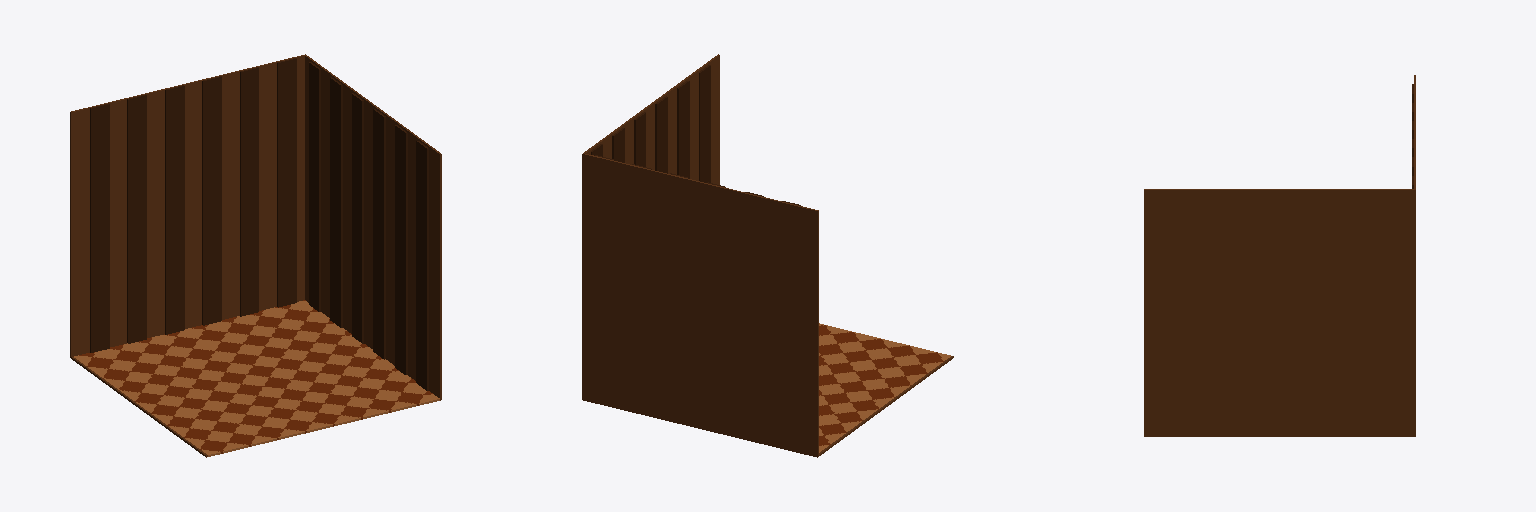
3 renders of one model, left to right at view 1: azimuth 30°, elevation 25°; view 2: azimuth 150°, elevation 25°; view 3: azimuth 270°, elevation 25°, orthographic.
Visible parts, largest first — view 1: object 1; view 2: object 1; view 3: object 1.
Boxes of the visible parts, <box> form: object 1: <box>70,54,441,457</box>; object 1: <box>582,54,953,457</box>; object 1: <box>1144,75,1415,436</box>.
Bounding box in the file's own units: 12.6 × 12.6 × 12.6.
1 materials, 1 textured.